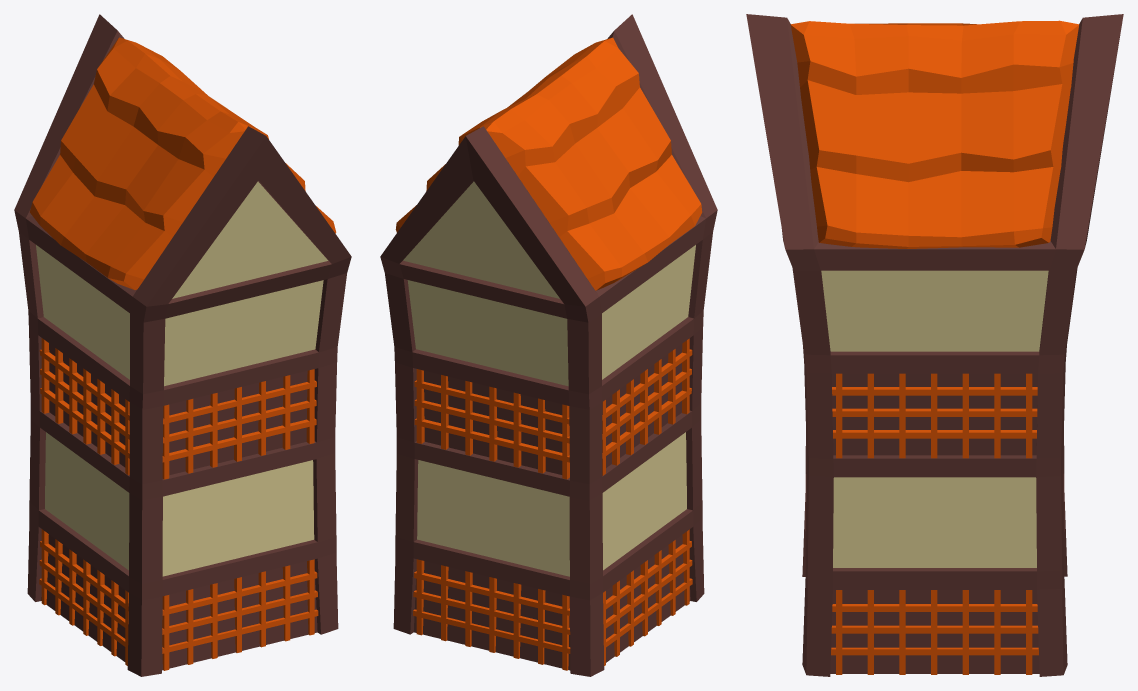
The model's file is GEO_tower_1.fbx.
3 views of the same model, side by side, from view 1: azimuth 30°, elevation 25°; view 2: azimuth 150°, elevation 25°; view 3: azimuth 270°, elevation 25° (orthographic). The views are drawn at different scales.
Parts seen in each view (by area): view 1: GEO_tower_1, GEO_roof_straw, GEO_wallgrid_3, GEO_wallgrid_4, GEO_wallgrid_1, GEO_wallgrid_2; view 2: GEO_tower_1, GEO_roof_straw, GEO_wallgrid_7, GEO_wallgrid_8, GEO_wallgrid_1, GEO_wallgrid_2; view 3: GEO_tower_1, GEO_roof_straw, GEO_wallgrid_5, GEO_wallgrid_6.
Boxes of the visible parts, left/top/right/bottom form: GEO_tower_1: left=14, top=14, right=351, bottom=676; GEO_roof_straw: left=30, top=37, right=336, bottom=289; GEO_wallgrid_3: left=162, top=369, right=316, bottom=479; GEO_wallgrid_4: left=162, top=559, right=318, bottom=670; GEO_wallgrid_1: left=39, top=338, right=129, bottom=475; GEO_wallgrid_2: left=39, top=529, right=128, bottom=665; GEO_tower_1: left=380, top=14, right=717, bottom=676; GEO_roof_straw: left=395, top=37, right=702, bottom=290; GEO_wallgrid_7: left=414, top=369, right=569, bottom=479; GEO_wallgrid_8: left=413, top=559, right=570, bottom=670; GEO_wallgrid_1: left=602, top=338, right=692, bottom=475; GEO_wallgrid_2: left=603, top=529, right=692, bottom=665; GEO_tower_1: left=746, top=14, right=1123, bottom=676; GEO_roof_straw: left=790, top=20, right=1079, bottom=248; GEO_wallgrid_5: left=832, top=373, right=1037, bottom=458; GEO_wallgrid_6: left=831, top=590, right=1038, bottom=674.
Bounding box in the file's own units: 365 × 846 × 477.
